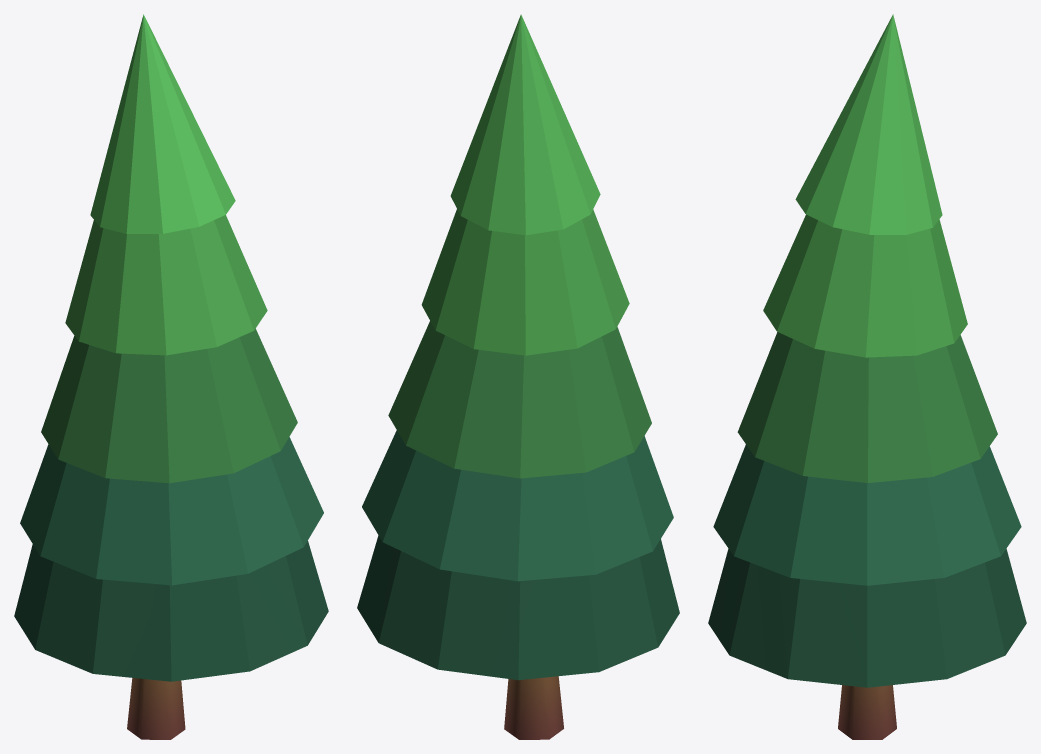
The model's file is Low_Poly_Forest_treeTall02.glb.
The picture shows the model from 3 angles, left to right: view 1: azimuth 30°, elevation 25°; view 2: azimuth 150°, elevation 25°; view 3: azimuth 270°, elevation 25°; orthographic projection. The views are drawn at different scales.
Visible parts, largest first — view 1: leaf_4, leaf_5, leaf_3, leaf_2, leaf, bark; view 2: leaf_5, leaf_4, leaf_3, leaf_2, leaf, bark; view 3: leaf_5, leaf_4, leaf_3, leaf_2, leaf, bark.
Boxes of the visible parts, x1=… form: leaf_4: x1=20, y1=437, x2=323, y2=585; leaf_5: x1=14, y1=541, x2=328, y2=681; leaf_3: x1=41, y1=328, x2=297, y2=483; leaf_2: x1=65, y1=215, x2=267, y2=355; leaf: x1=90, y1=14, x2=235, y2=233; bark: x1=127, y1=678, x2=185, y2=739; leaf_5: x1=357, y1=535, x2=679, y2=680; leaf_4: x1=362, y1=430, x2=673, y2=581; leaf_3: x1=388, y1=321, x2=651, y2=478; leaf_2: x1=421, y1=209, x2=629, y2=355; leaf: x1=450, y1=14, x2=600, y2=235; bark: x1=504, y1=676, x2=563, y2=739; leaf_5: x1=708, y1=548, x2=1026, y2=687; leaf_4: x1=713, y1=444, x2=1021, y2=585; leaf_3: x1=737, y1=332, x2=997, y2=482; leaf_2: x1=763, y1=214, x2=967, y2=357; leaf: x1=795, y1=14, x2=942, y2=234; bark: x1=838, y1=685, x2=896, y2=739.
Bounding box in the file's own units: 4.33 × 10.71 × 4.33.
Materials: 1 (1 with a texture image).
